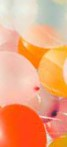Balloon: (11, 1, 67, 47), (1, 53, 41, 105), (1, 104, 47, 147)
